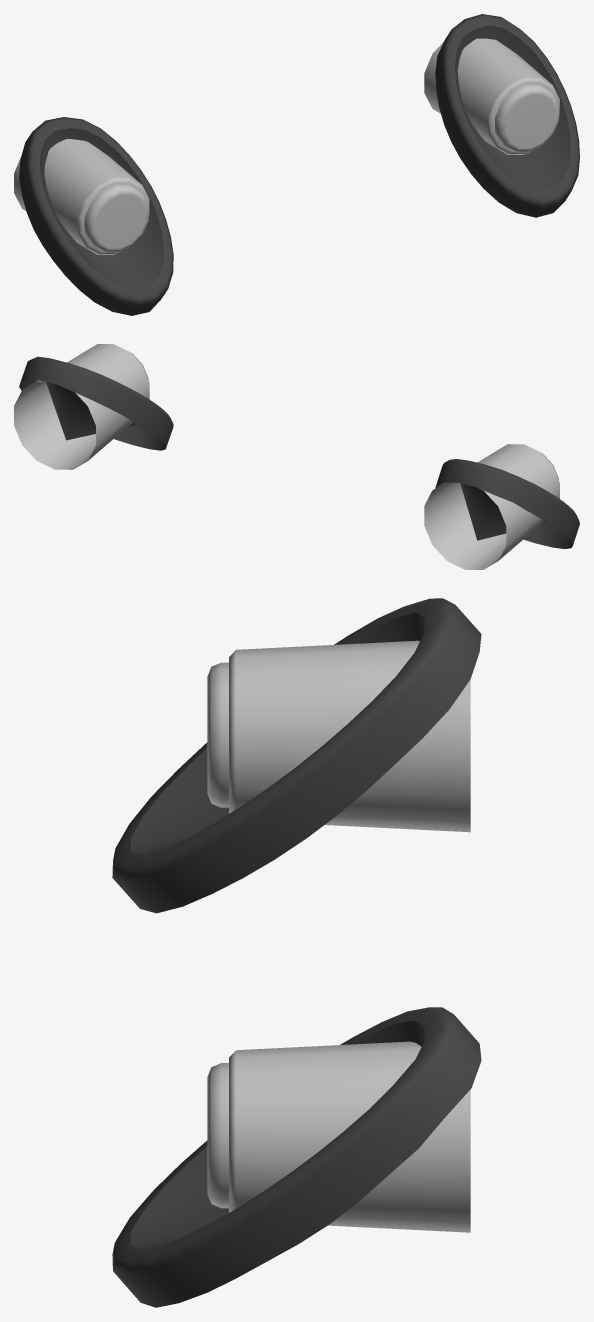
Rendered from Car_10_Headlight_Simple.fbx.
The picture shows the model from 3 angles, top to bottom: view 1: azimuth 30°, elevation 25°; view 2: azimuth 150°, elevation 25°; view 3: azimuth 270°, elevation 25°; orthographic projection. The views are drawn at different scales.
Parts seen in each view (by area): view 1: Car_10_Headlight_Simple; view 2: Car_10_Headlight_Simple; view 3: Car_10_Headlight_Simple.
Part boxes in pixels (x1,y1,x2,y2): Car_10_Headlight_Simple: (14, 14, 579, 315); Car_10_Headlight_Simple: (14, 344, 579, 569); Car_10_Headlight_Simple: (112, 598, 481, 1307).
Bounding box in the file's own units: 190 × 57.94 × 48.57.
